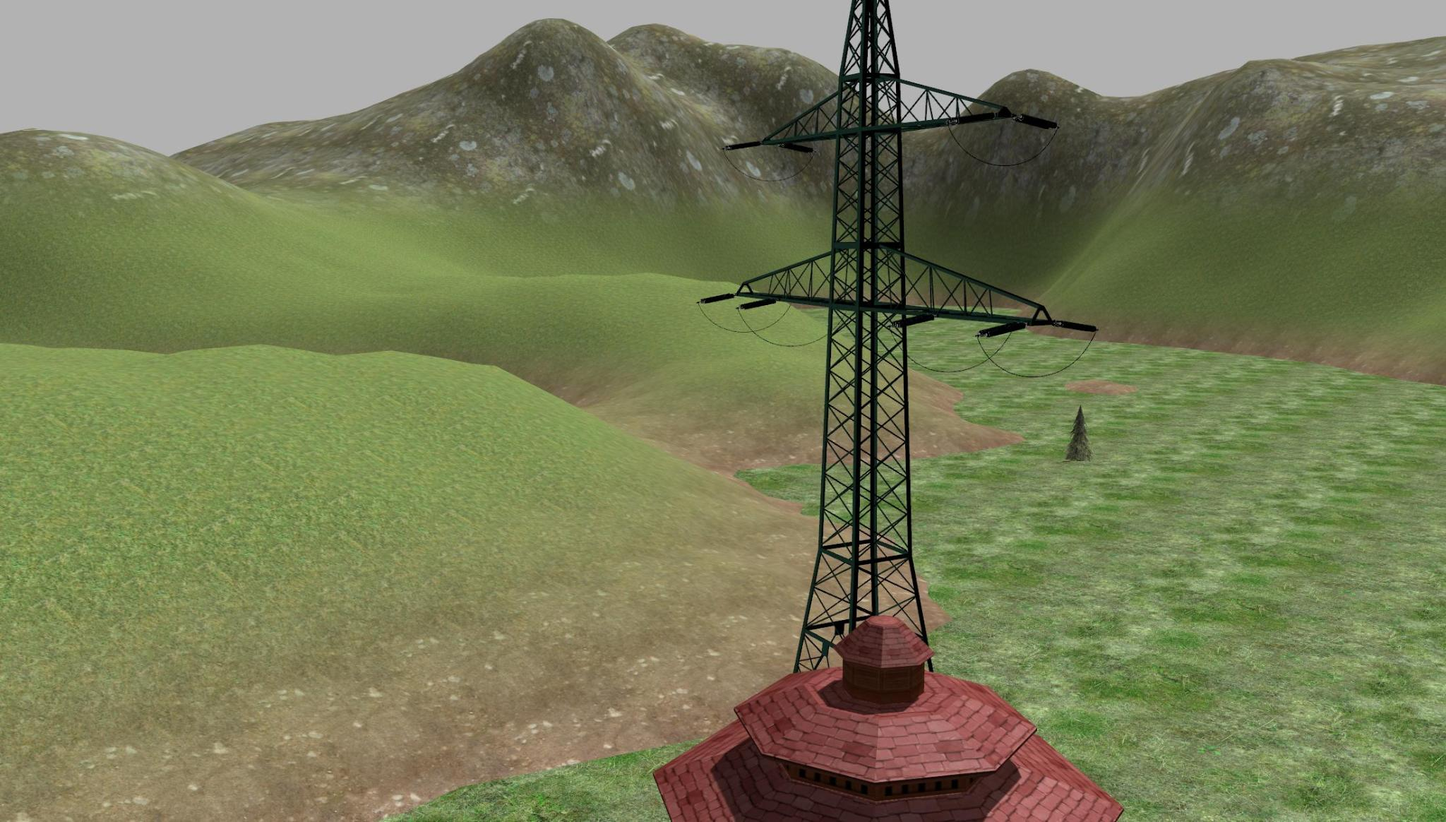tower: (728, 0, 1034, 596)
